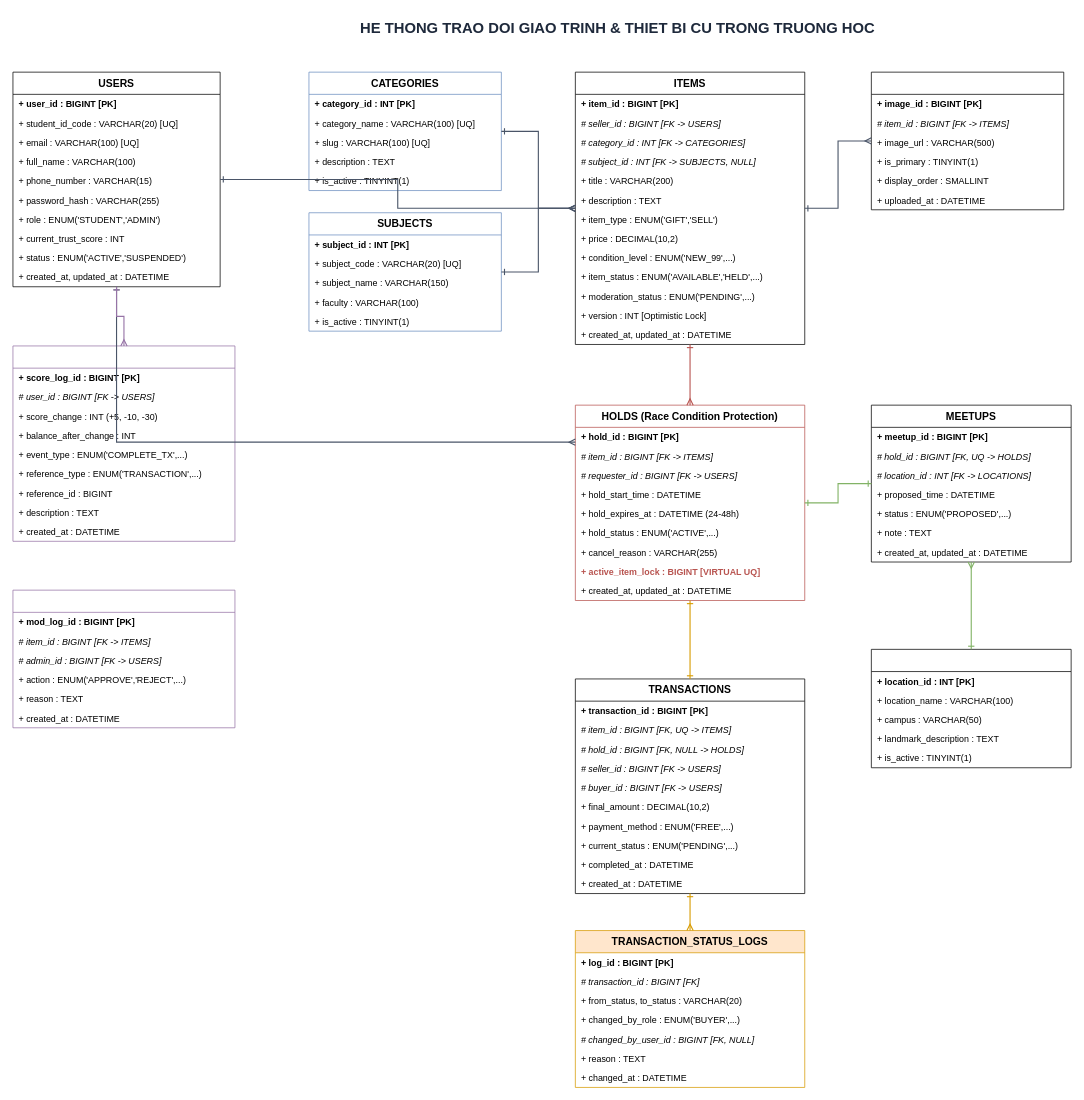
This 1084x1100 diagram has some shape labels left out. Each missing label, with the box of its shape:
ITEM_IMAGES: (871, 71, 1064, 210)
MEETUP_LOCATIONS: (871, 649, 1071, 768)
MODERATION_LOGS: (12, 589, 235, 728)
TRUST_SCORE_HISTORY (Ledger): (12, 345, 235, 541)
